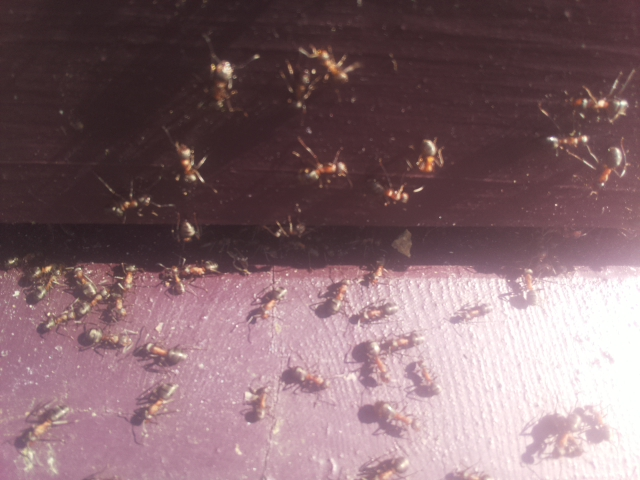ant: (167, 129, 222, 202), (13, 400, 74, 457), (295, 38, 356, 88), (126, 377, 183, 430), (274, 56, 321, 115), (203, 49, 242, 118), (590, 136, 632, 195), (365, 398, 422, 436), (244, 284, 293, 326), (566, 91, 629, 123), (102, 190, 165, 219), (293, 156, 355, 185), (344, 300, 404, 329), (573, 404, 614, 446), (367, 175, 414, 209), (413, 131, 447, 178), (279, 365, 334, 394), (352, 454, 410, 480), (413, 354, 441, 402), (32, 307, 75, 338), (70, 287, 109, 321), (141, 341, 191, 367), (540, 130, 593, 154), (244, 380, 270, 428), (367, 335, 390, 389), (80, 326, 132, 348), (326, 275, 351, 320), (519, 261, 539, 309), (73, 265, 99, 300), (441, 464, 494, 480), (176, 213, 203, 244), (116, 262, 139, 293), (164, 265, 184, 300)
